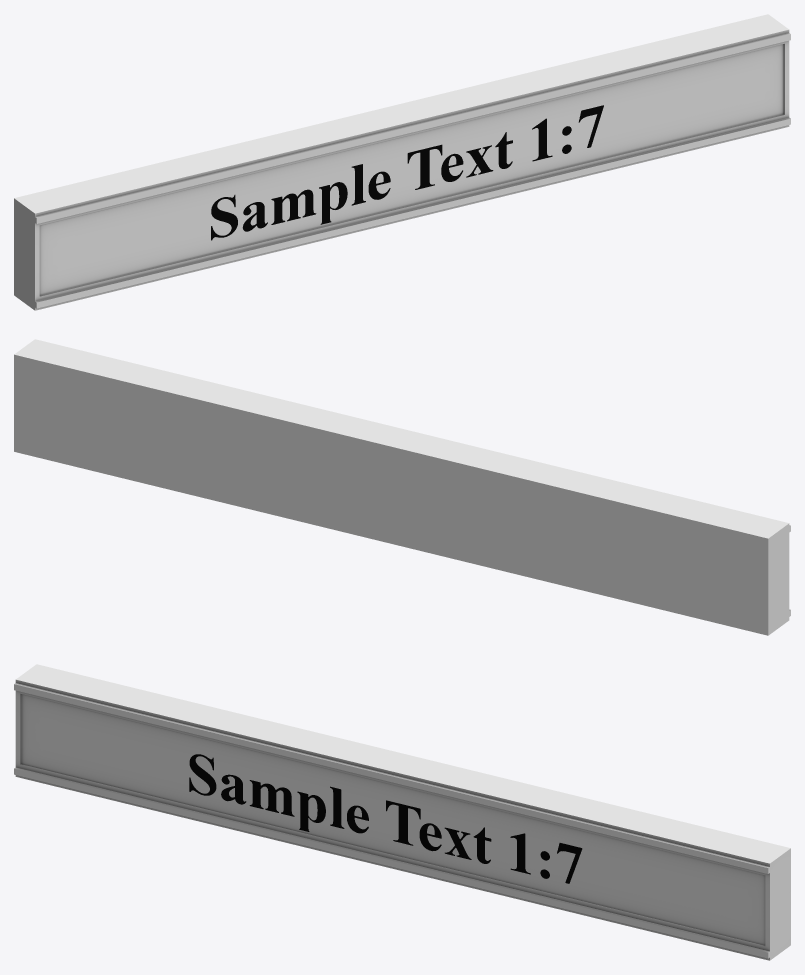
File: name_5.glb
The picture shows the model from 3 angles, top to bottom: view 1: azimuth 30°, elevation 25°; view 2: azimuth 150°, elevation 25°; view 3: azimuth 330°, elevation 25°; orthographic projection.
Parts seen in each view (by area): view 1: name_5, name_5_img; view 2: name_5; view 3: name_5, name_5_img.
Part boxes in pixels (x1,y1,x2,y2): name_5: (14,14,790,310); name_5_img: (211,105,603,240); name_5: (14,339,790,635); name_5: (14,664,790,960); name_5_img: (189,754,582,883).
Bounding box in the file's own units: 6.5 × 0.8 × 0.3389.
2 materials, 2 textured.
